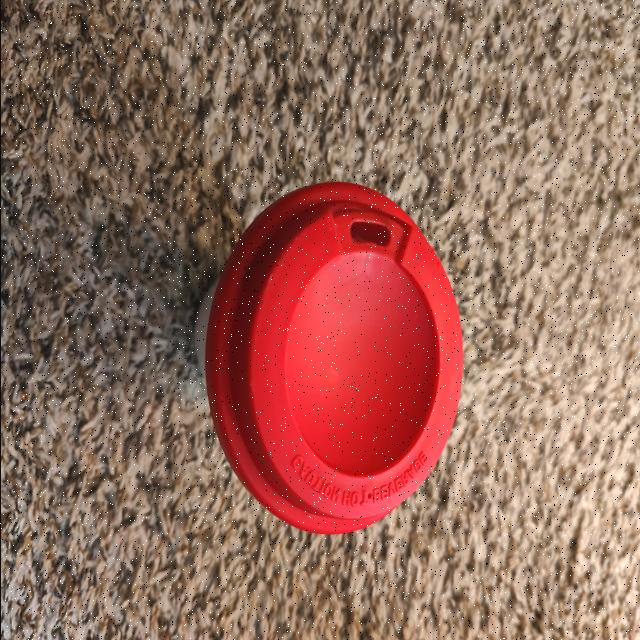mug: (188, 202, 464, 538)
